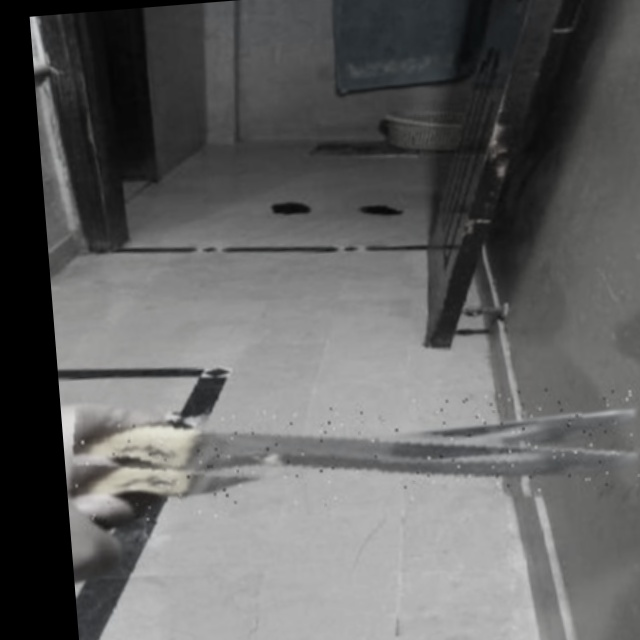Sharp-Object: (71, 382, 640, 527)
